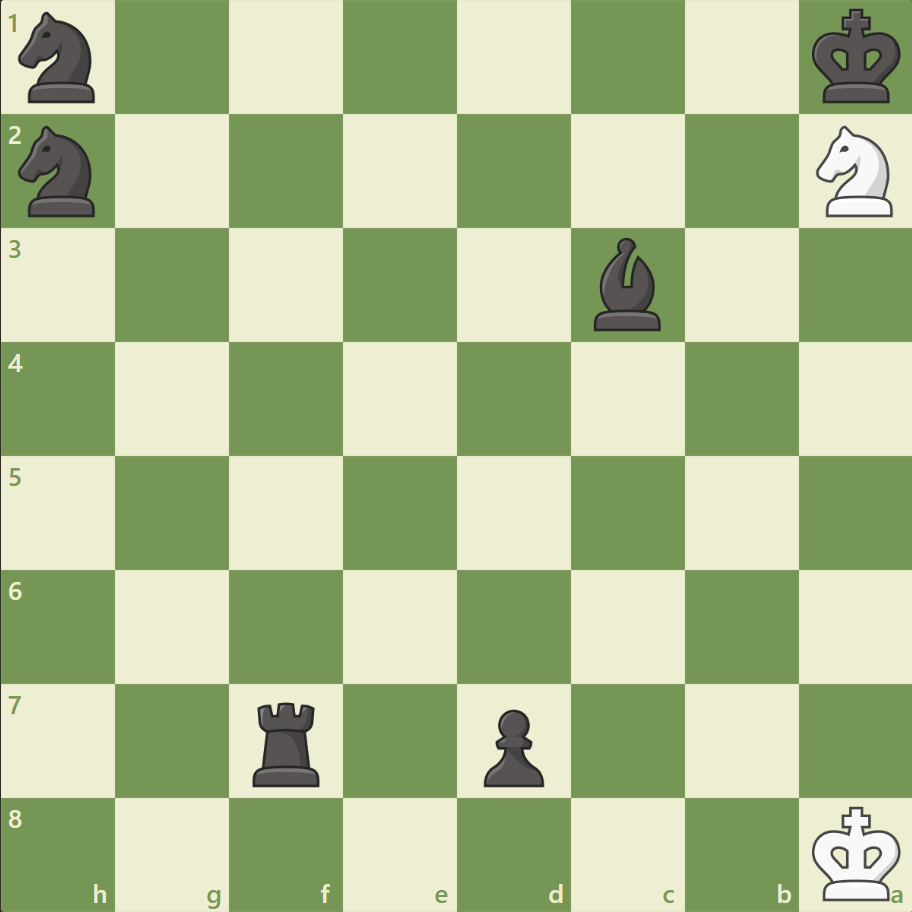K: (806, 798, 906, 906)
N: (806, 121, 903, 223)
b: (585, 233, 669, 336)
k: (806, 4, 906, 112)
n: (11, 7, 108, 110), (11, 121, 108, 223)
p: (474, 700, 549, 791)
r: (246, 693, 329, 790)
